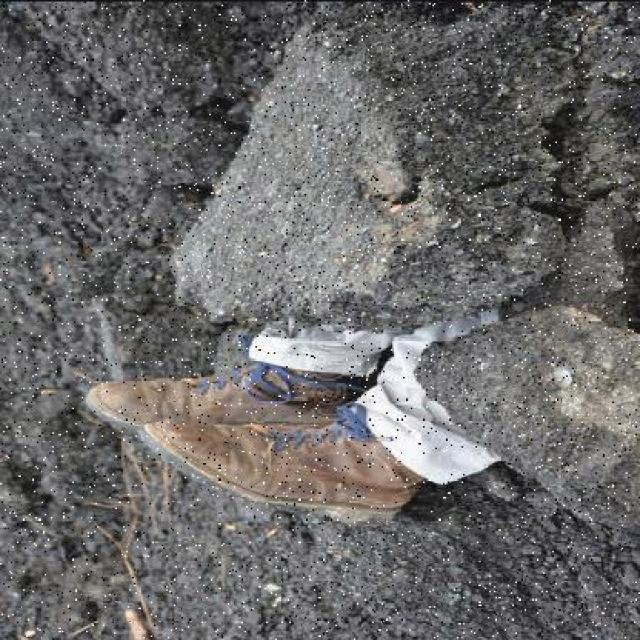shoes: (144, 416, 410, 524), (78, 358, 345, 428)
